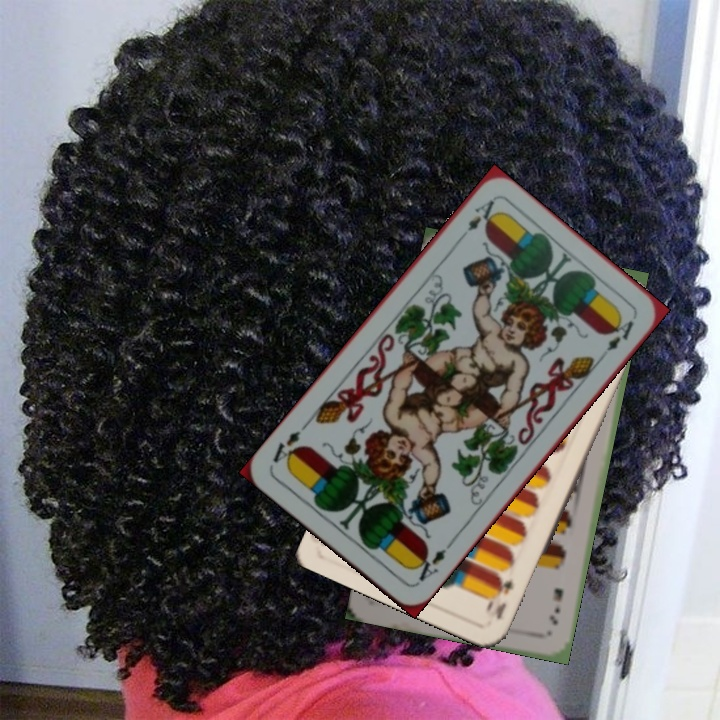E10: (482, 573, 516, 623)
E7: (544, 583, 566, 627)
EA: (453, 195, 498, 244), (409, 538, 455, 585)
